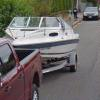Boat: (6, 9, 83, 80)
